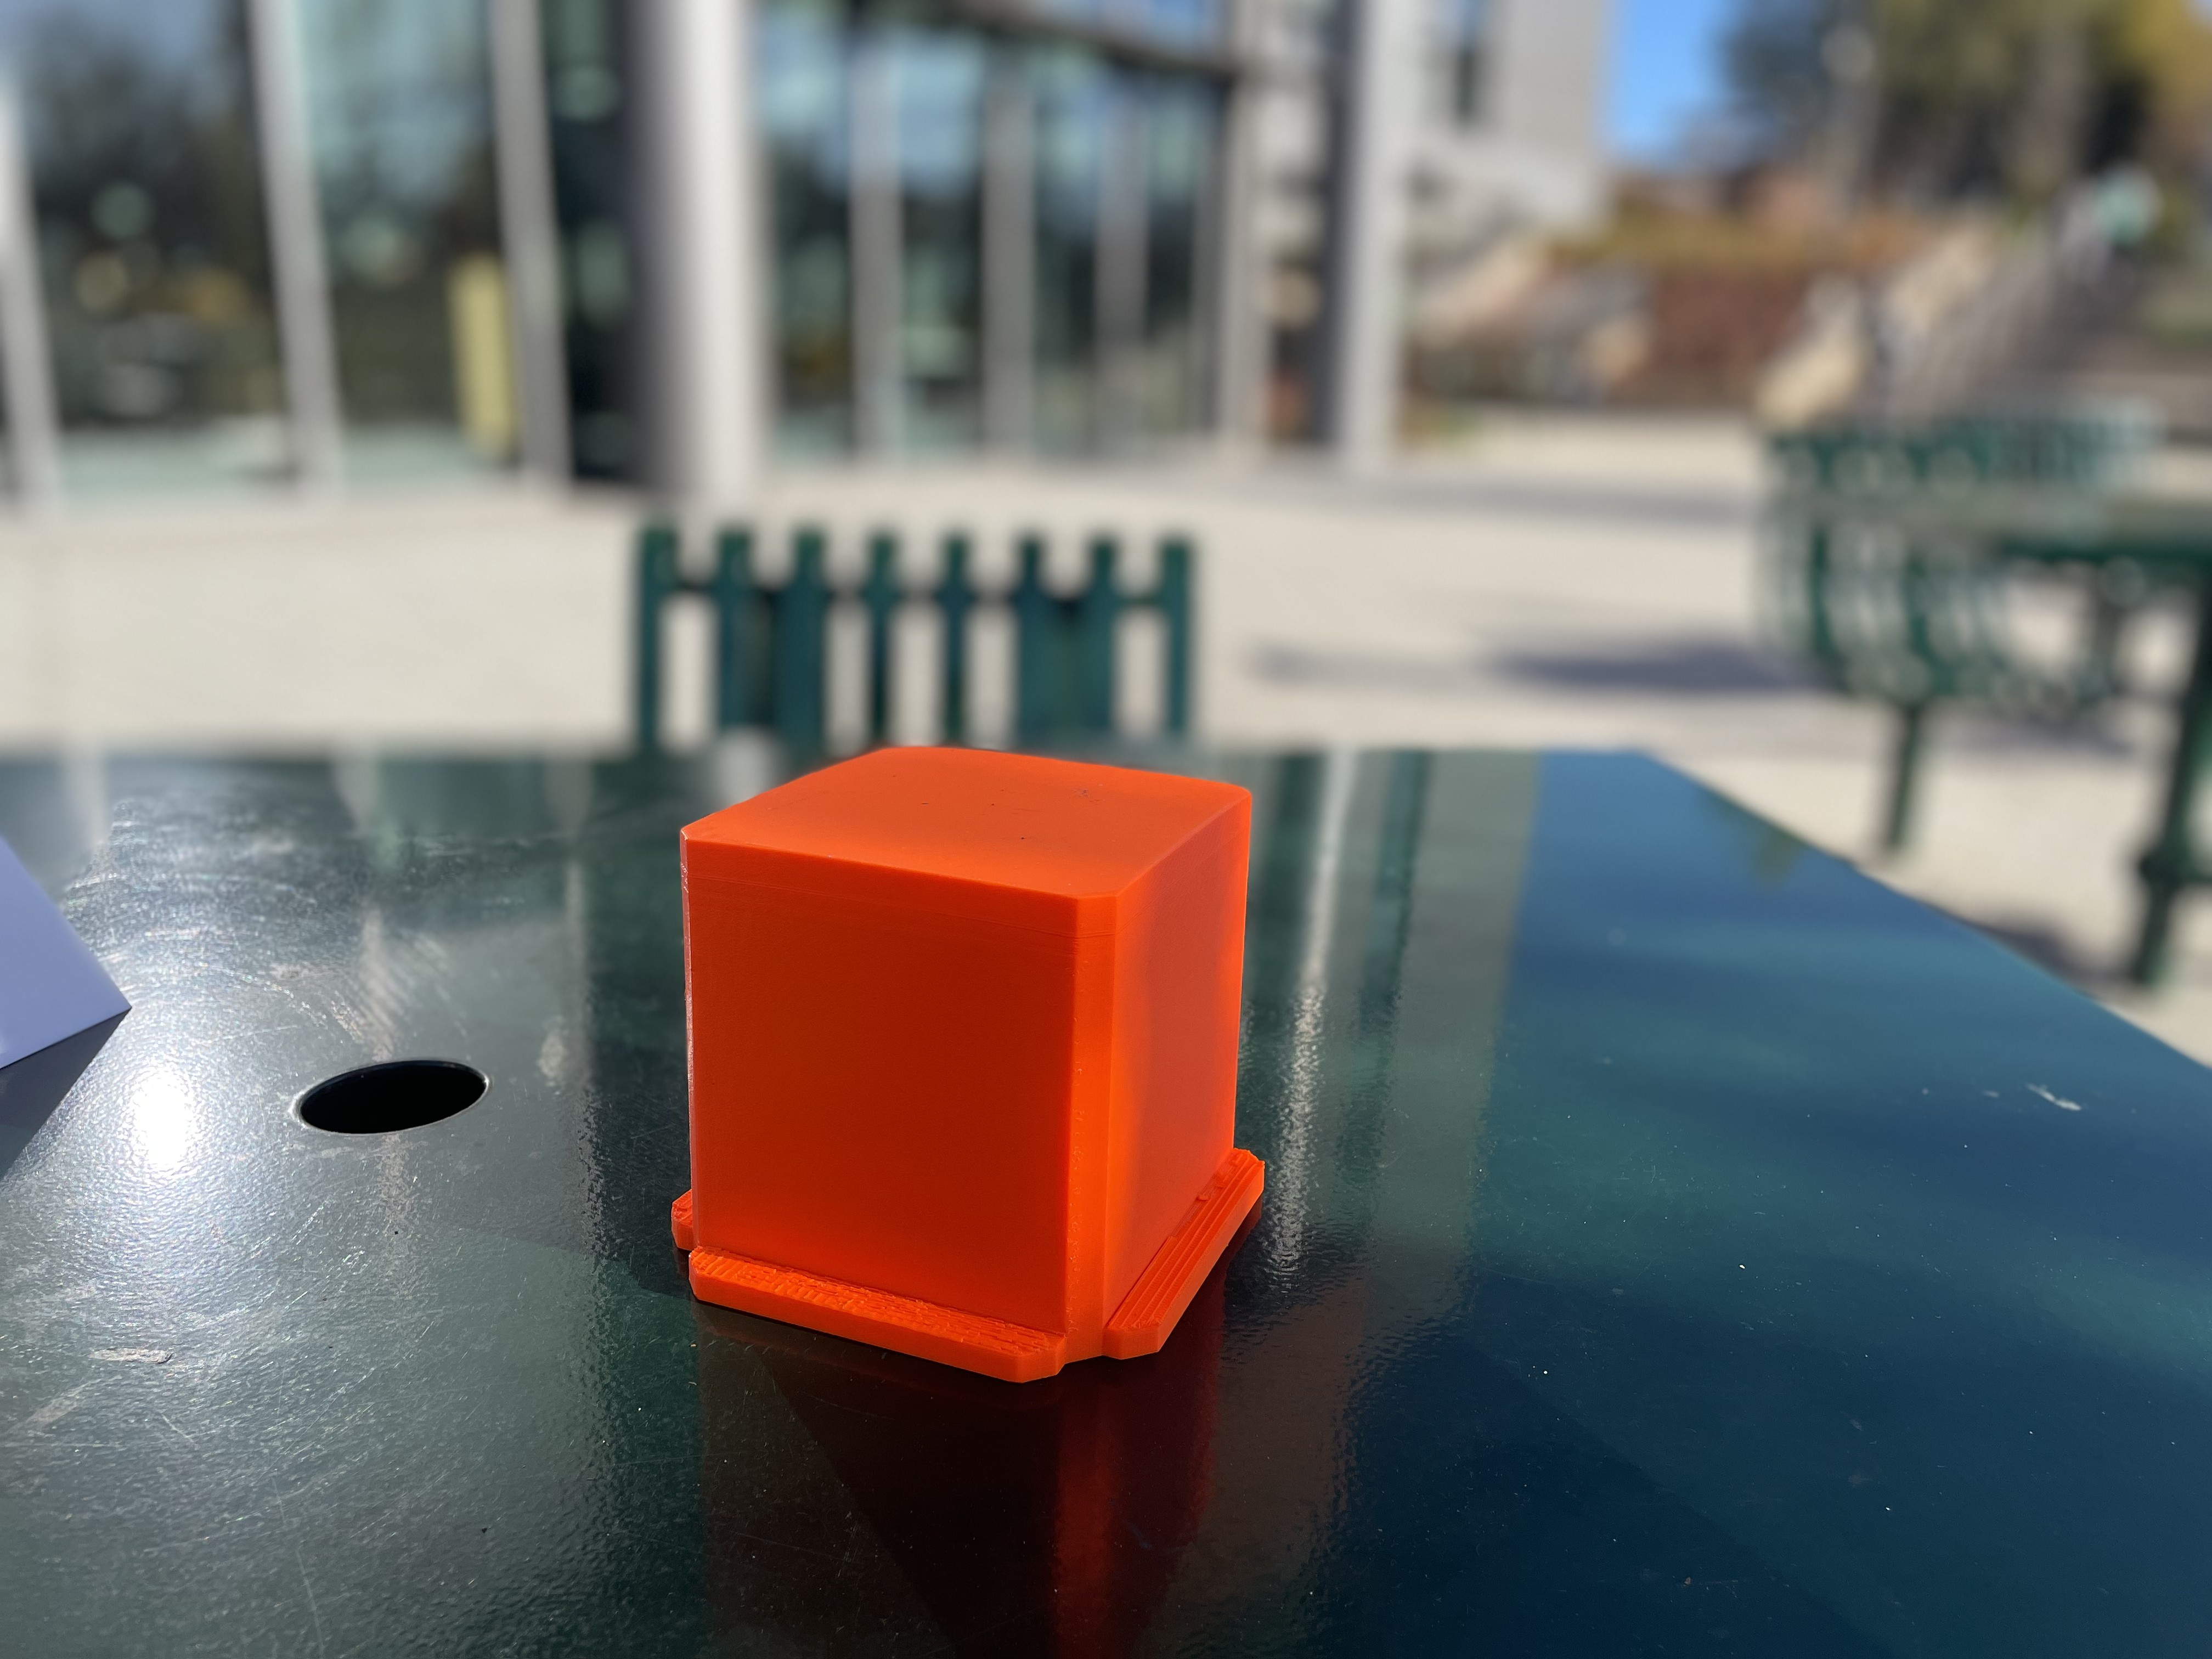payload1: (644, 725, 1301, 1399)
